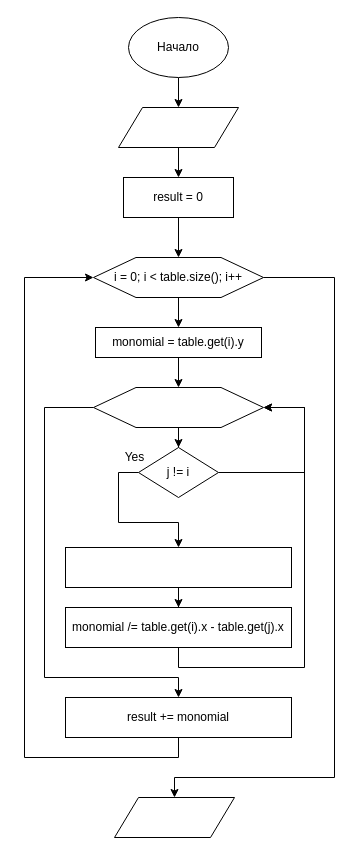
Some shapes in this 360 by 855 pixel diagram are drawn without their labels. The centre of each missing label's shape, as x and y in pixels:
"j = 0; j < table.size(); j++" belongs at [178,407].
"monomial *= xVal - table.get(j).x" belongs at [178,567].
"Ввод table, x" belongs at [178,127].
"Вернуть result" belongs at [174,817].
